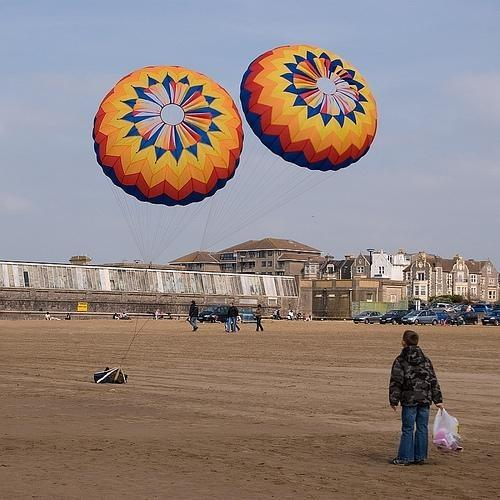car: (400, 310, 438, 326), (195, 304, 227, 322), (379, 310, 412, 325), (353, 310, 384, 324), (450, 312, 478, 324), (482, 309, 500, 327), (428, 302, 454, 312), (472, 302, 494, 312), (454, 305, 464, 313)
